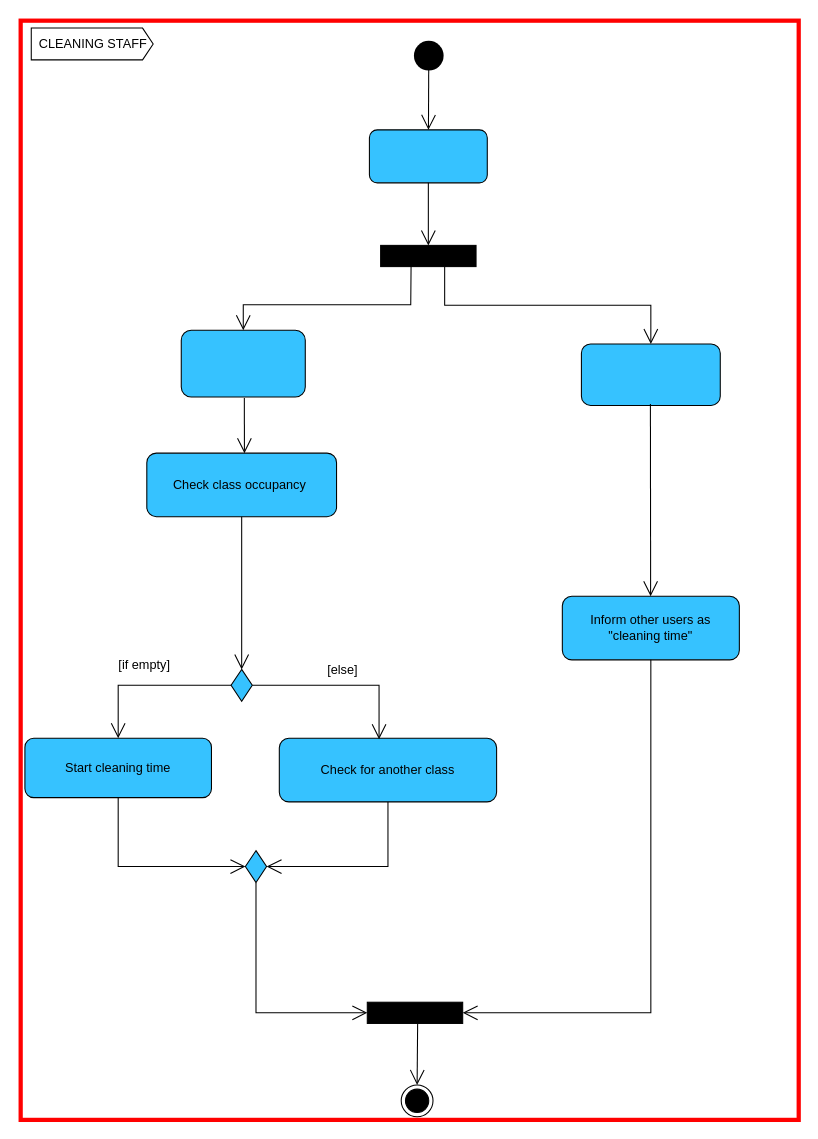
Image size: 818x1139. Some labels were removed from this diagram. The shapes that lost their labels are listed below. From the top down, each one's centre as x and y in pixels, then its label:
point 427,156: Enter ID
point 242,363: Check cleaning schedule
point 650,374: Show floor map(online)
